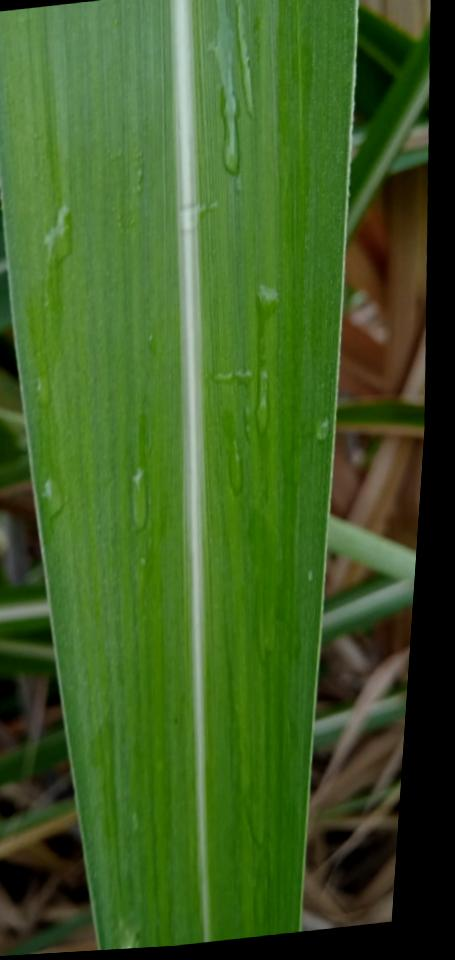Healthy: (0, 0, 357, 950)
